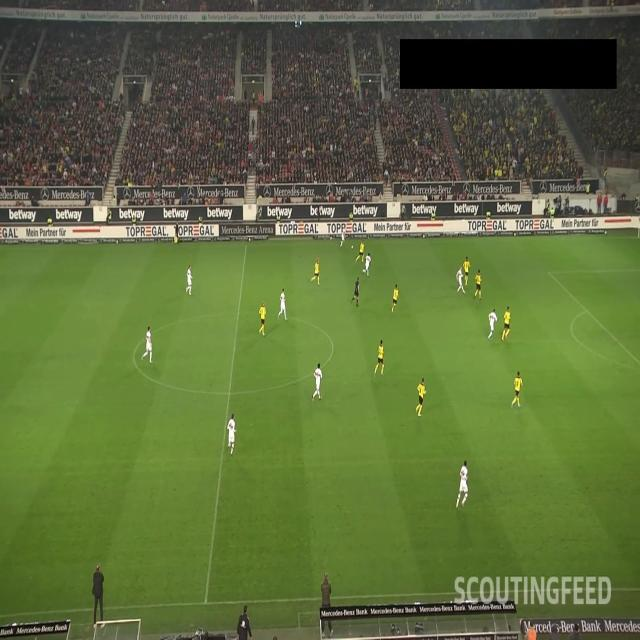ball: (351, 244, 354, 249)
